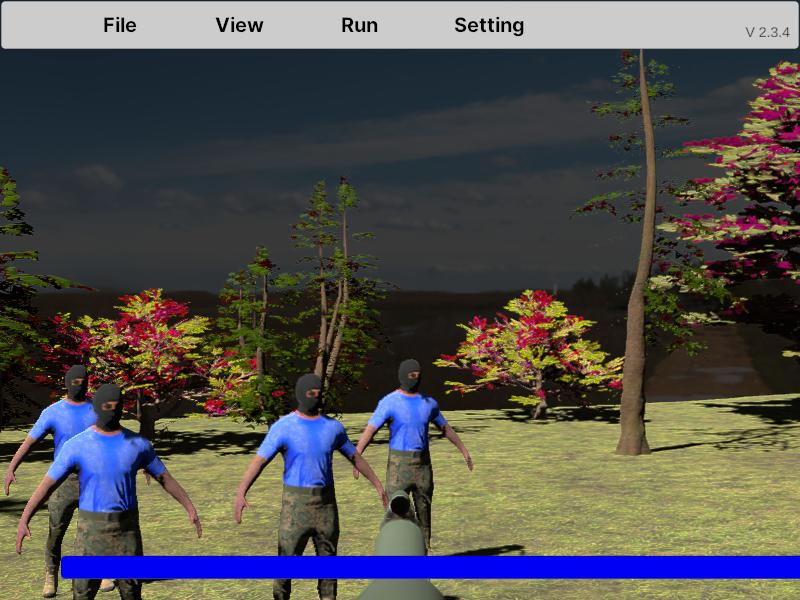Human: (8, 380, 204, 600), (233, 372, 387, 599), (3, 364, 147, 592), (353, 356, 474, 563)
